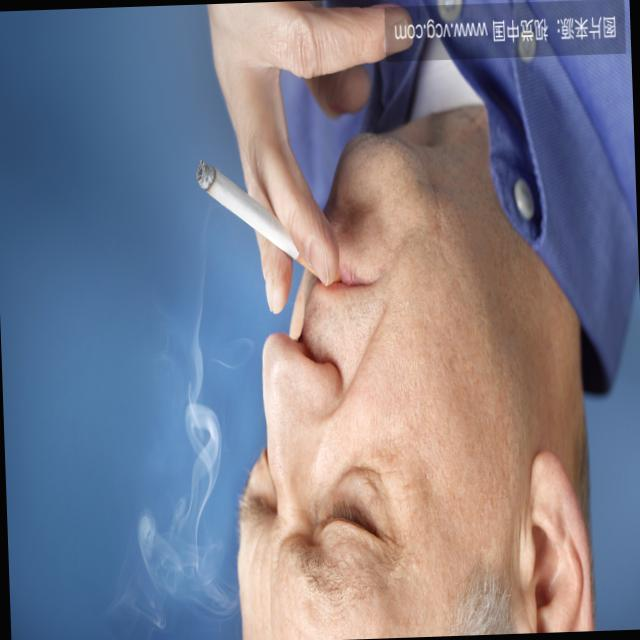cigarette: (192, 153, 294, 266)
